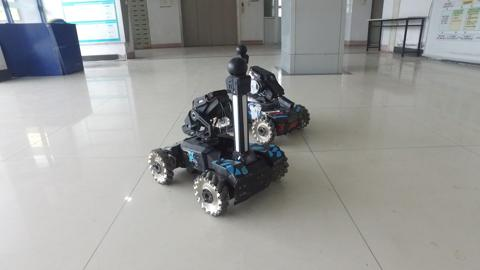chariot: (147, 59, 292, 221), (227, 42, 311, 147)
